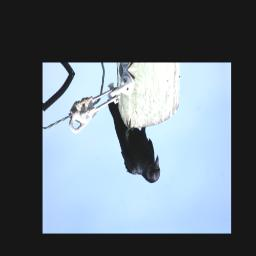Crow: (107, 94, 162, 187)
